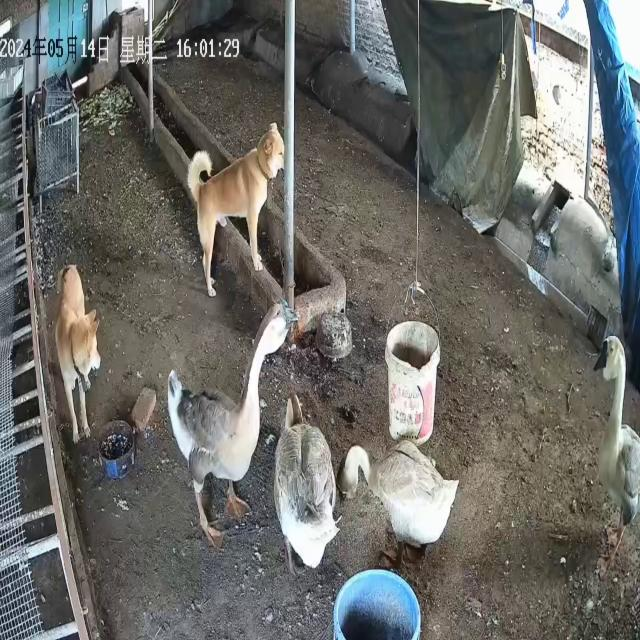dog: (187, 122, 286, 298), (55, 264, 102, 446)
